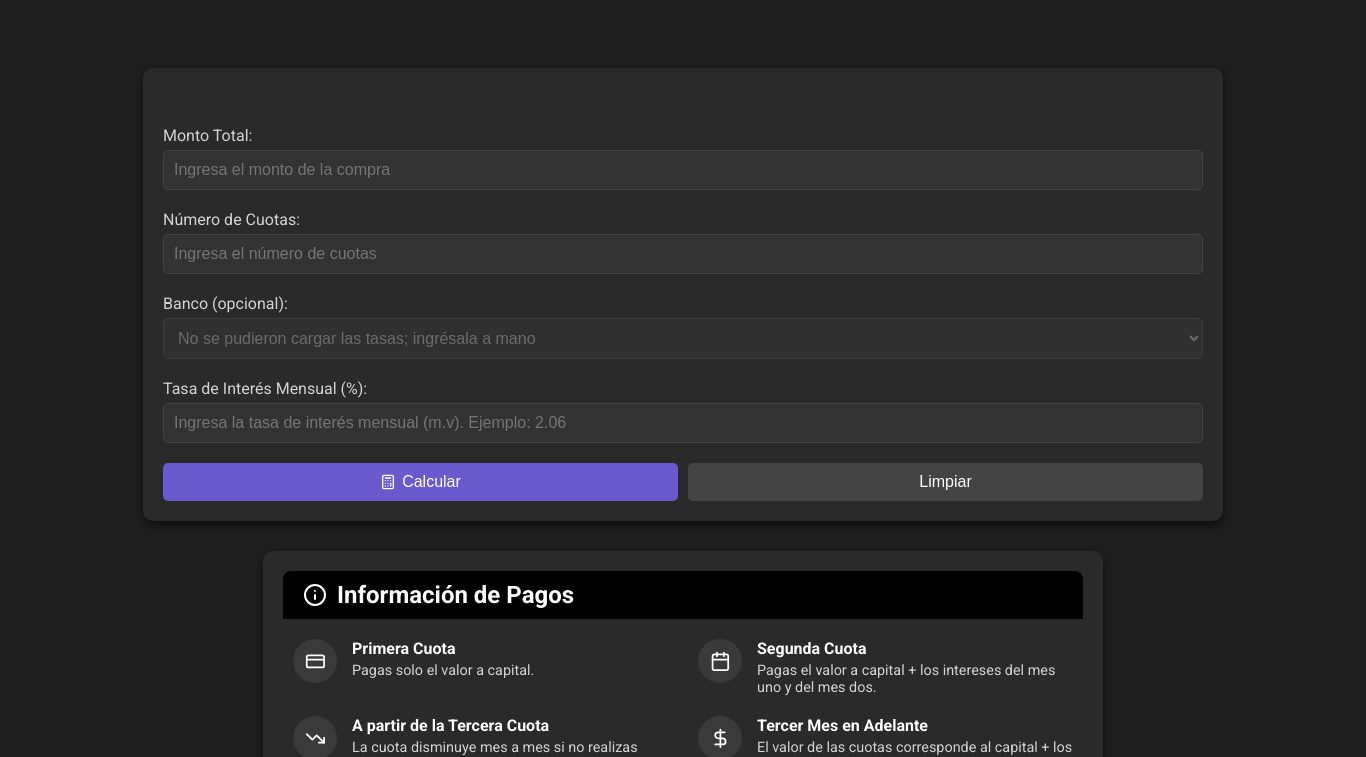
Test: si la API falla se puede ingresar la tasa a mano
Type "600000" into the field labelled "Monto Total:" at (683, 170), box [163,150,1203,190]
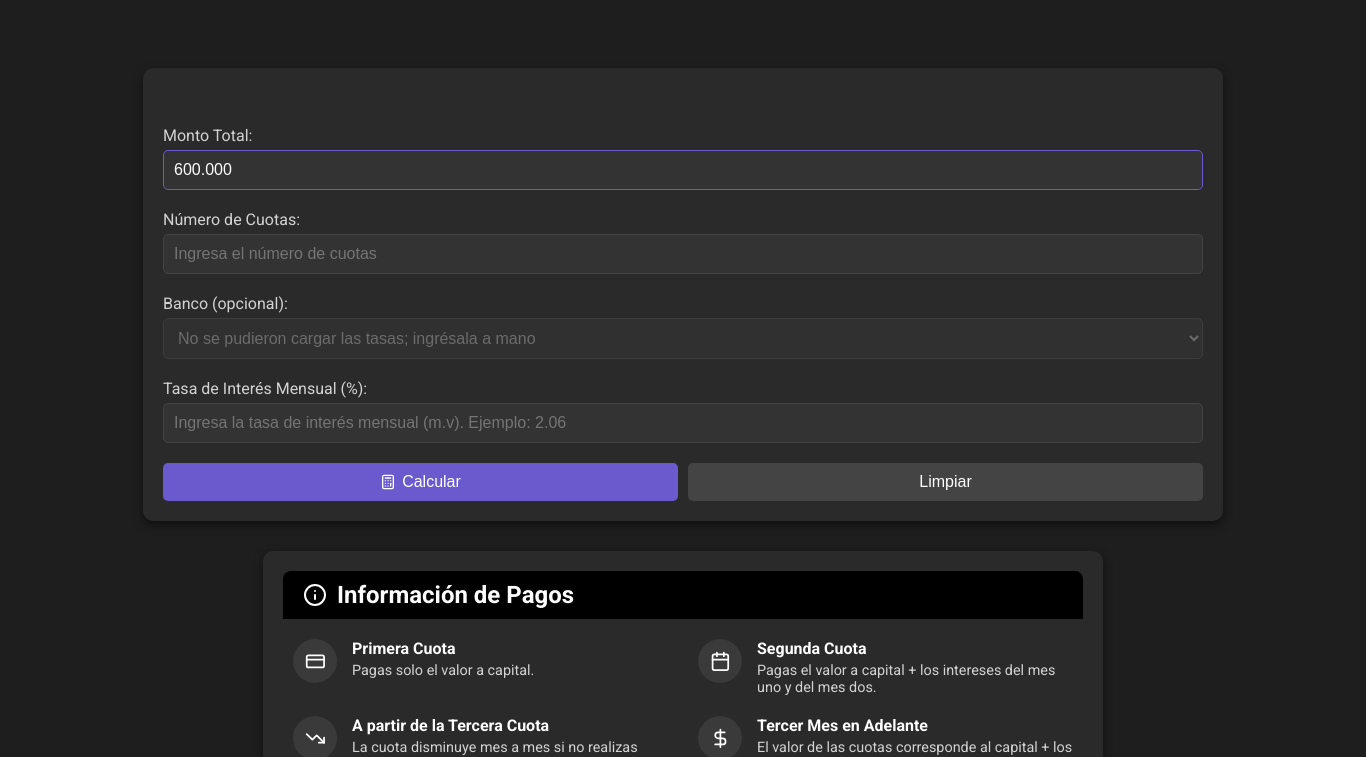
Type "6" into the number field labelled "Número de Cuotas:" at (683, 254), box [163,234,1203,274]
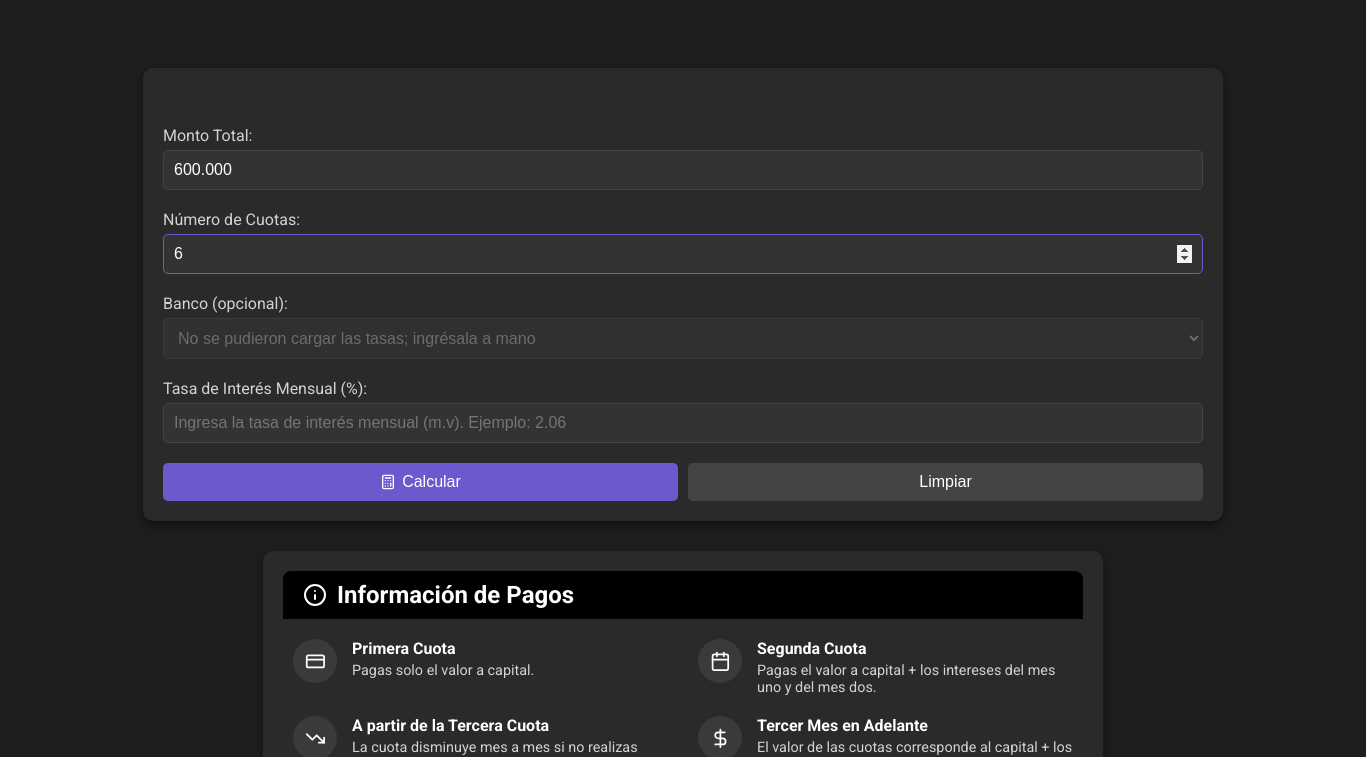
Type "2" into the number field labelled "Tasa de Interés Mensual (%):" at (683, 423), box [163,403,1203,443]
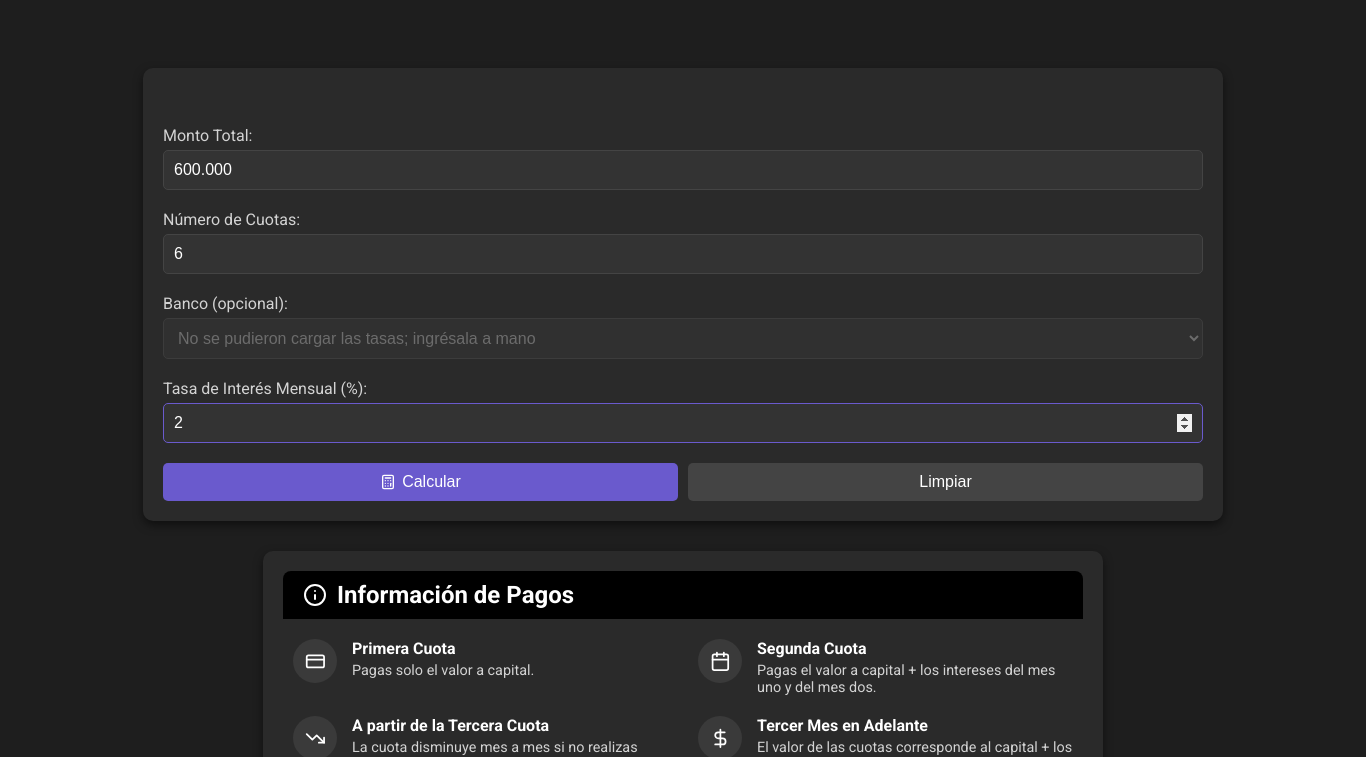
Click the button "Calcular" at (420, 482), box [163,463,678,501]
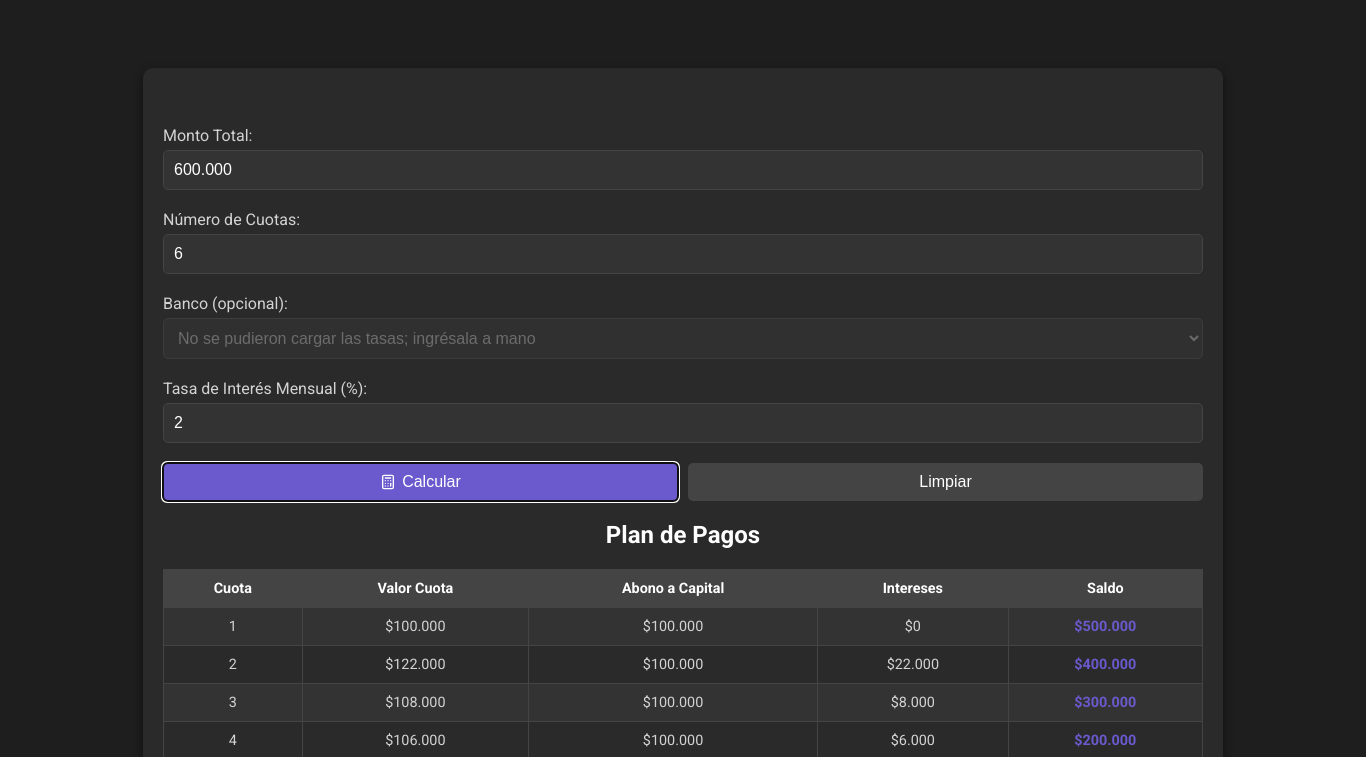
Expected: the heading "Plan de Pagos" is shown, [606,521,760,549]
